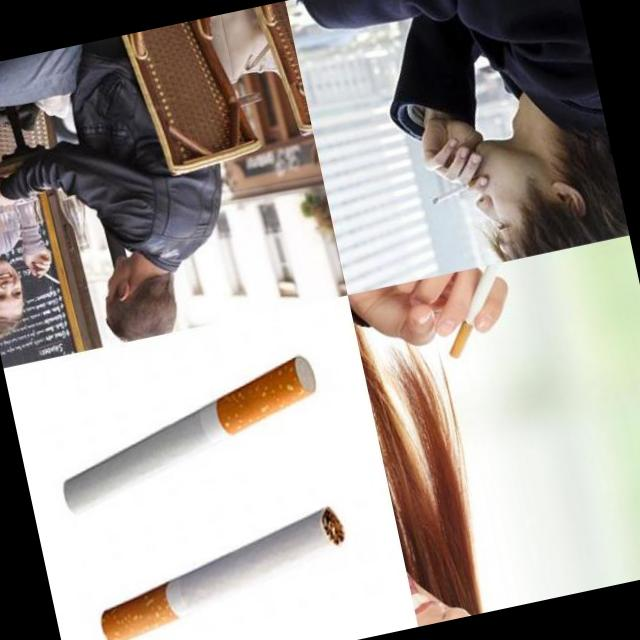smoke: (44, 351, 334, 518), (85, 504, 357, 640), (432, 262, 526, 362), (430, 180, 489, 210), (42, 268, 62, 288)
